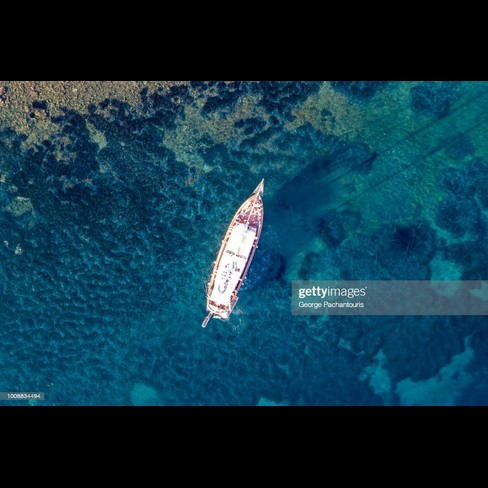boat: (192, 174, 274, 336)
